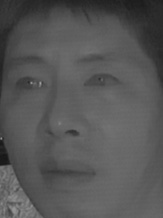eye: (82, 69, 122, 93), (11, 73, 50, 95)
mouth: (38, 153, 97, 193)
